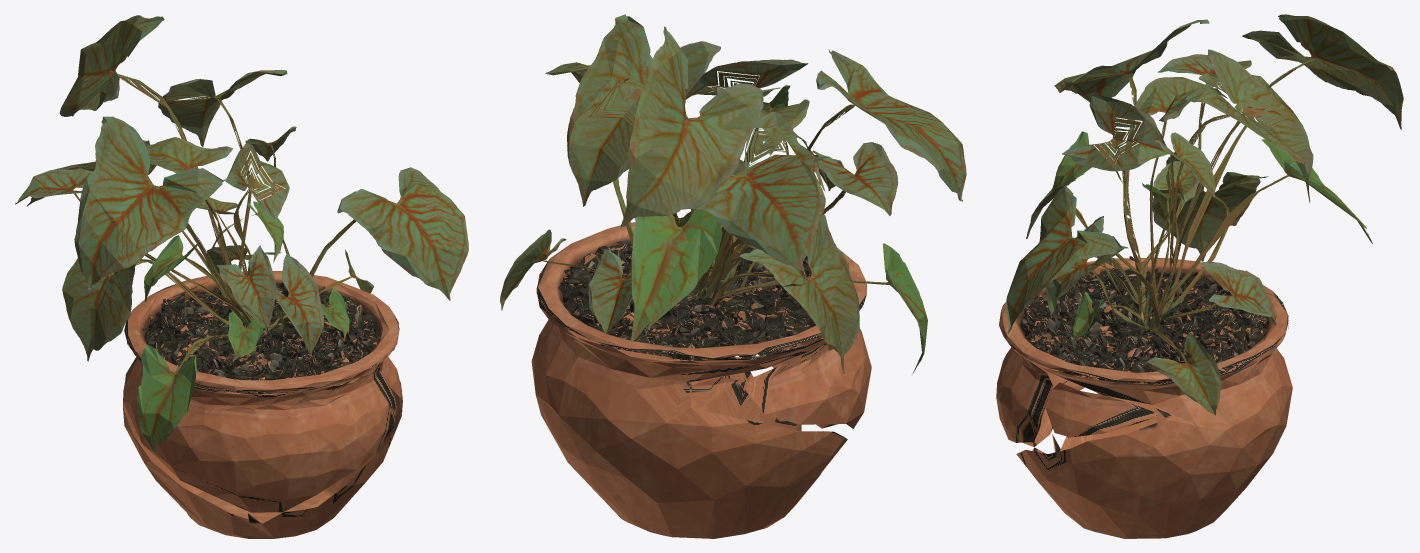
Rendered from DiffuseTransmissionPlant.obj.
3 views of the same model, side by side, from view 1: azimuth 30°, elevation 25°; view 2: azimuth 150°, elevation 25°; view 3: azimuth 270°, elevation 25° (orthographic). The views are drawn at different scales.
Visible parts, largest first — view 1: part7, part8, part6; view 2: part7, part8, part6; view 3: part7, part8, part6.
Part boxes in pixels (x1,y1,x2,y2): part7: (15,15,468,453); part8: (123,271,402,538); part6: (141,282,380,392); part7: (500,14,966,374); part8: (531,218,871,538); part6: (558,237,819,360); part7: (1006,14,1403,415); part8: (996,258,1292,538); part6: (1020,268,1267,383).
Size of the model in its own units: 0.6989 by 0.8409 by 0.656.
3 materials, 3 textured.
